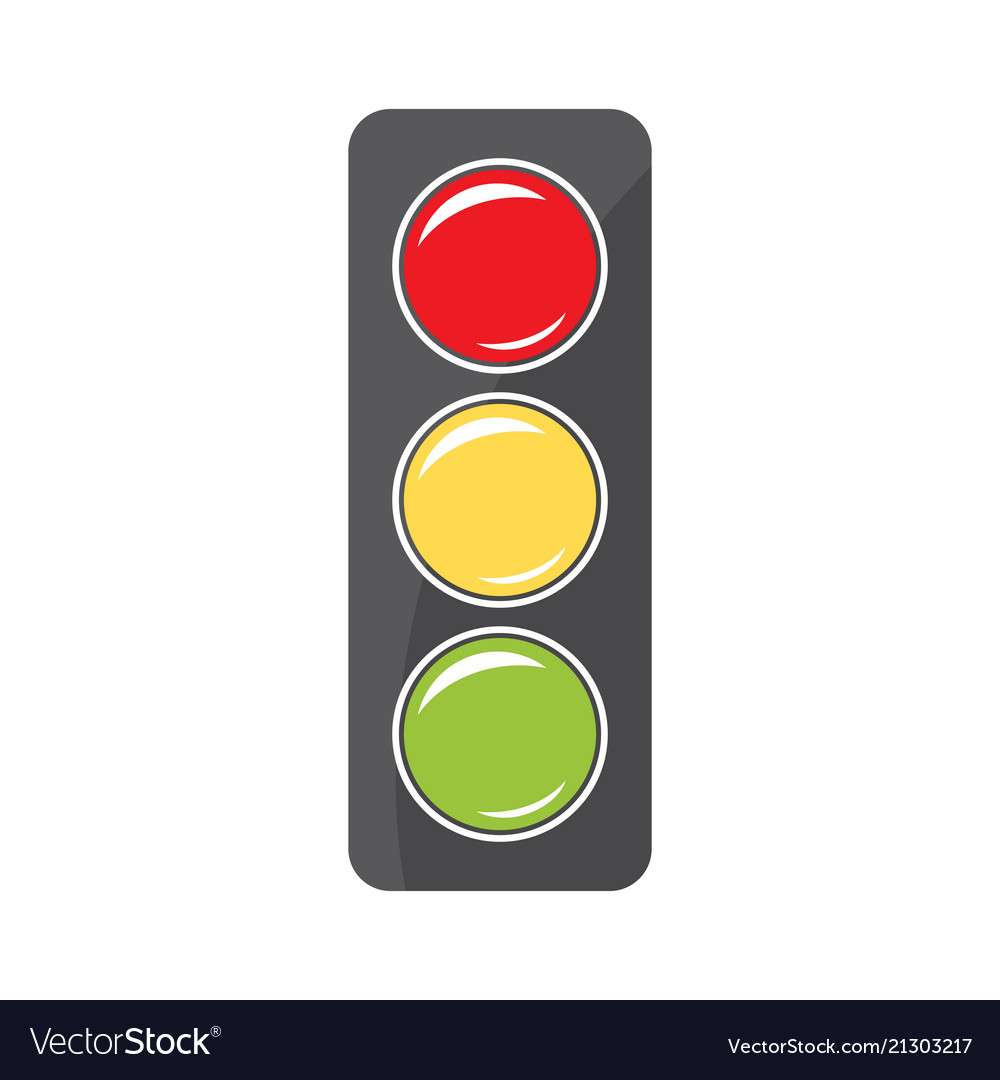trafficLight: (332, 95, 674, 898)
